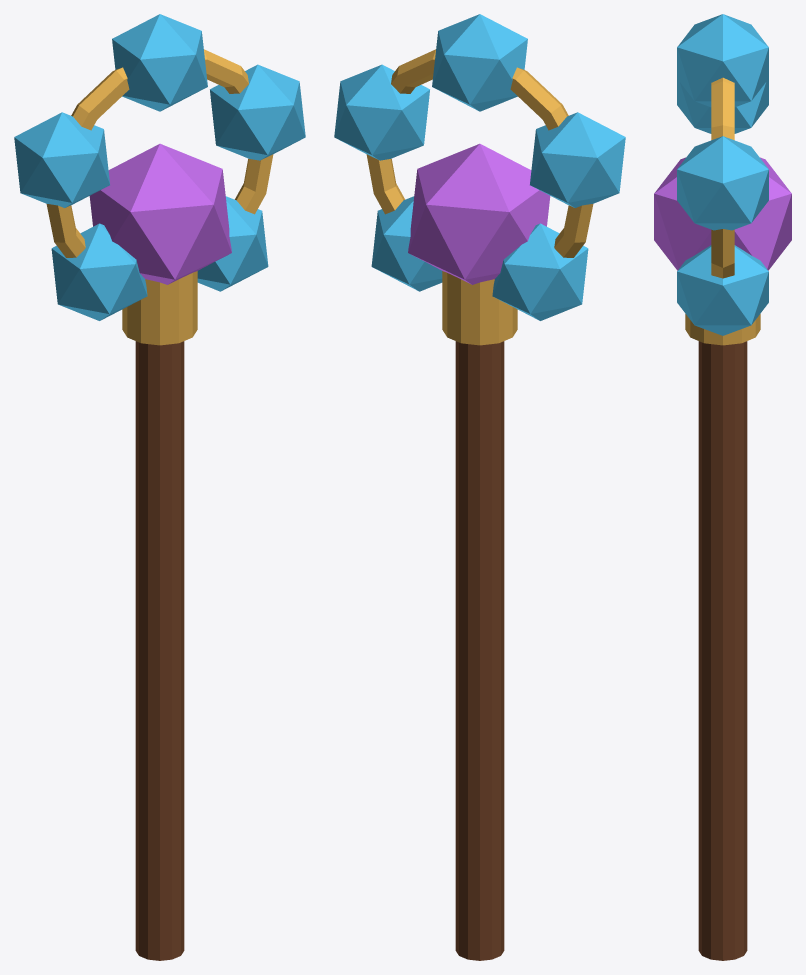
The model's file is star-scepter-1.glb.
3 views of the same model, side by side, from view 1: azimuth 30°, elevation 25°; view 2: azimuth 150°, elevation 25°; view 3: azimuth 270°, elevation 25° (orthographic).
Parts seen in each view (by area): view 1: Cylinder, Icosphere, Icosphere.005, Icosphere.001, Icosphere.002, Icosphere.004, Torus.009, Cylinder.001, Icosphere.003; view 2: Cylinder, Icosphere, Icosphere.005, Icosphere.001, Icosphere.002, Icosphere.004, Torus.009, Cylinder.001, Icosphere.003; view 3: Cylinder, Icosphere.002, Icosphere.001, Icosphere, Icosphere.003, Torus.009, Icosphere.005, Cylinder.001.
Boxes of the visible parts, x1,y1,x2,y2 form: Cylinder: (135,341,184,960); Icosphere: (89,143,231,284); Icosphere.005: (14,112,109,207); Icosphere.001: (112,14,207,111); Icosphere.002: (210,64,305,160); Icosphere.004: (51,223,147,320); Torus.009: (46,49,273,257); Cylinder.001: (122,271,197,345); Icosphere.003: (197,196,268,291); Cylinder: (455,341,504,960); Icosphere: (408,143,550,284); Icosphere.005: (530,112,625,207); Icosphere.001: (432,14,527,111); Icosphere.002: (334,64,429,160); Icosphere.004: (492,223,588,320); Torus.009: (366,49,593,257); Cylinder.001: (442,271,517,345); Icosphere.003: (371,196,442,291); Cylinder: (698,341,747,960); Icosphere.002: (677,136,768,230); Icosphere.001: (677,14,768,107); Icosphere: (654,157,791,270); Icosphere.003: (677,245,768,335); Torus.009: (711,77,734,278); Icosphere.005: (677,79,768,133); Cylinder.001: (685,314,760,345).
Bounding box in the file's own units: 0.5973 × 1.92 × 0.2552.
